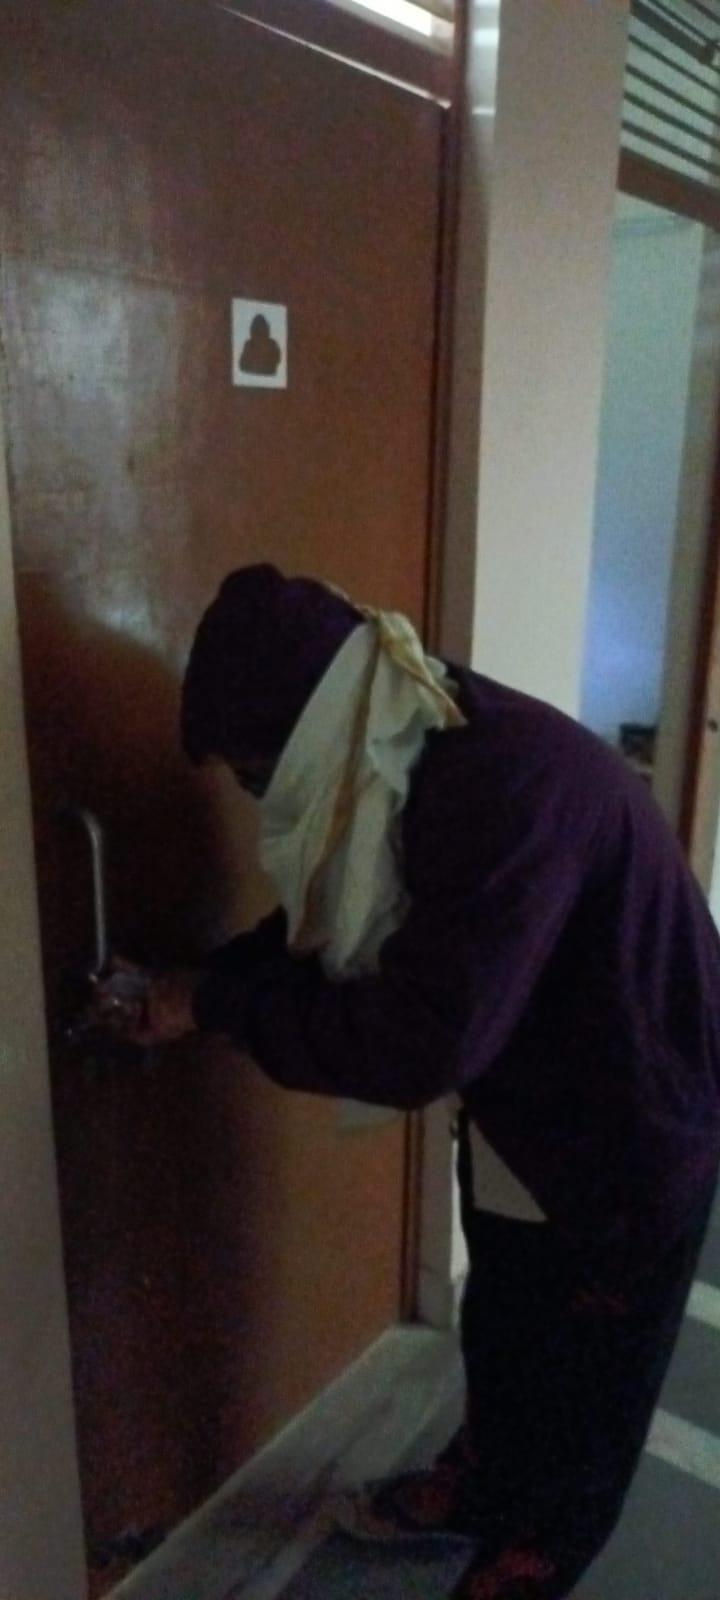suspicion: (0, 500, 720, 1600), (155, 550, 720, 1600)
